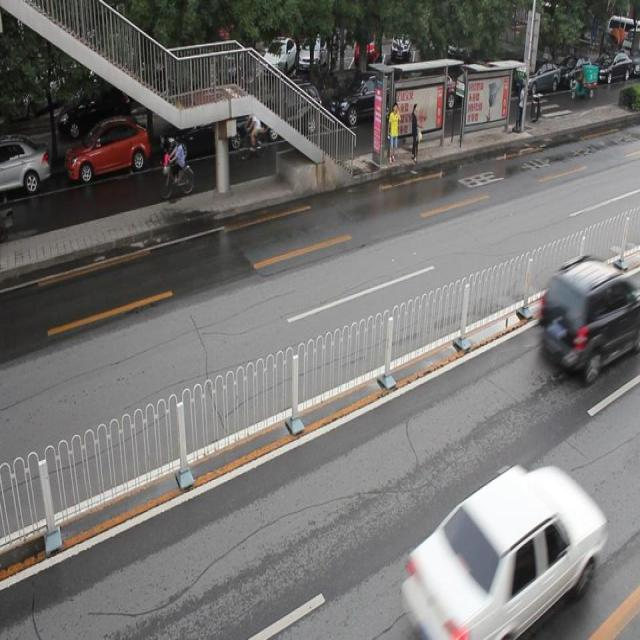car: (398, 458, 604, 640), (538, 252, 640, 384), (66, 115, 151, 179), (159, 104, 249, 162), (256, 84, 322, 142), (329, 75, 400, 126), (1, 132, 50, 194)
